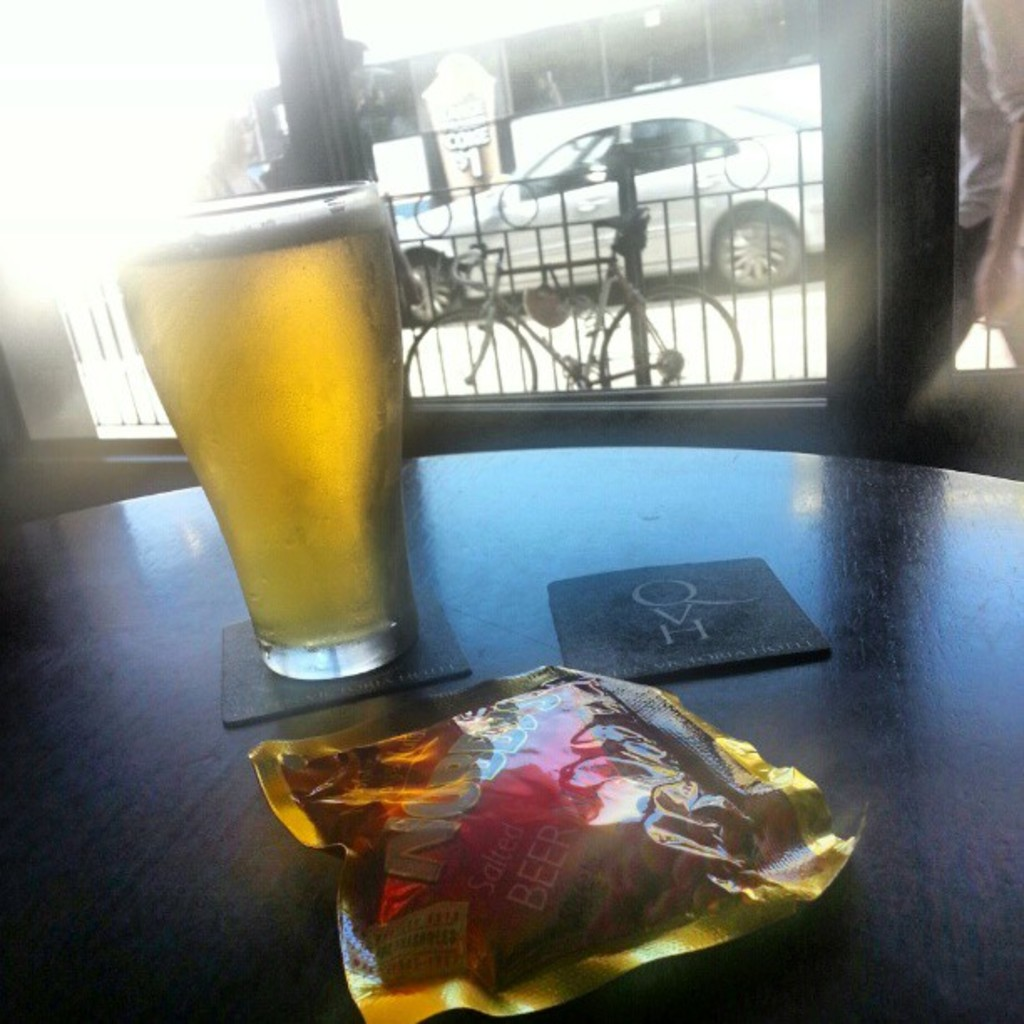Beer: (128, 194, 411, 674)
